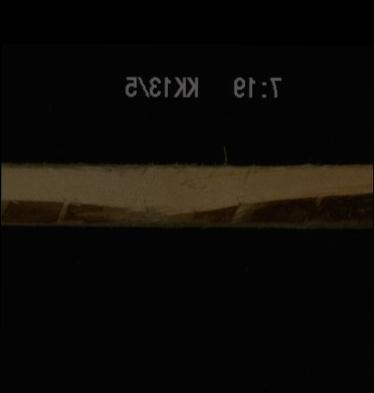wave: (0, 192, 372, 229)
